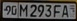0: (11, 4, 18, 16)
2: (29, 4, 38, 18)
3: (44, 4, 52, 18)
9: (37, 4, 45, 18), (4, 4, 11, 16)
A: (61, 4, 70, 18)
F: (53, 4, 61, 17)
M: (19, 3, 29, 18)
